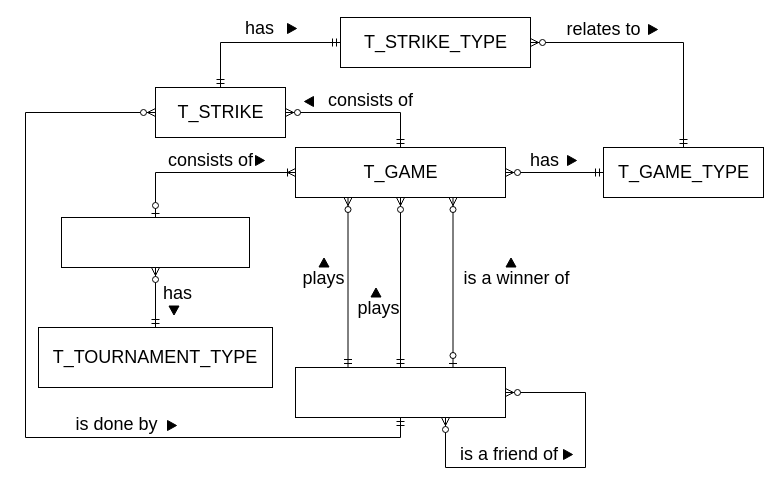
Image size: 781x494. Some labels were removed from this diagram. Here are the shapes that lost their labels. From the top down, the centre of each, then its label:
At point (155, 242): "T_TOURNAMENT".
At point (400, 392): "T_PLAYER".
